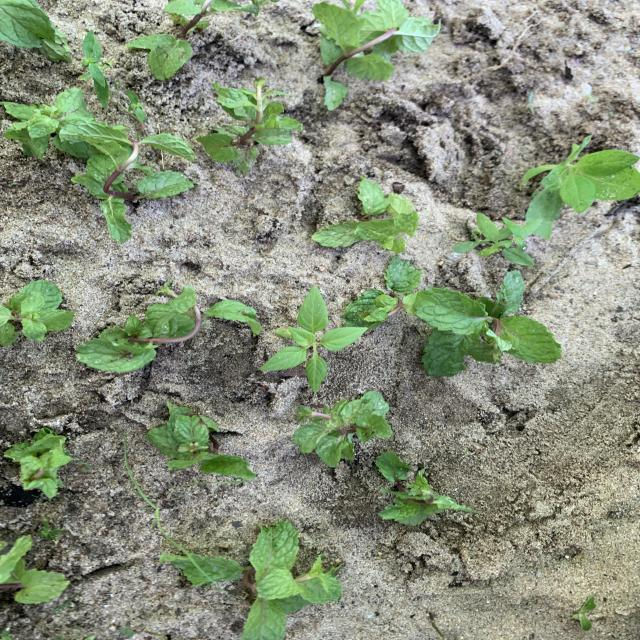crop: (160, 520, 342, 640), (78, 283, 260, 371), (417, 273, 560, 375), (74, 127, 195, 241), (315, 1, 437, 110), (200, 79, 301, 173), (128, 0, 246, 78), (147, 401, 254, 479), (3, 88, 112, 159), (292, 390, 391, 466), (314, 179, 418, 251), (375, 451, 474, 525), (352, 256, 447, 324), (1, 280, 73, 345), (4, 430, 73, 497), (1, 536, 69, 603)
weed: (521, 136, 640, 238), (261, 286, 365, 392), (477, 214, 533, 264), (81, 31, 111, 106), (120, 90, 147, 122), (572, 596, 595, 629), (38, 518, 64, 541), (170, 480, 203, 498), (55, 592, 81, 612), (76, 460, 91, 471), (116, 627, 134, 636)
